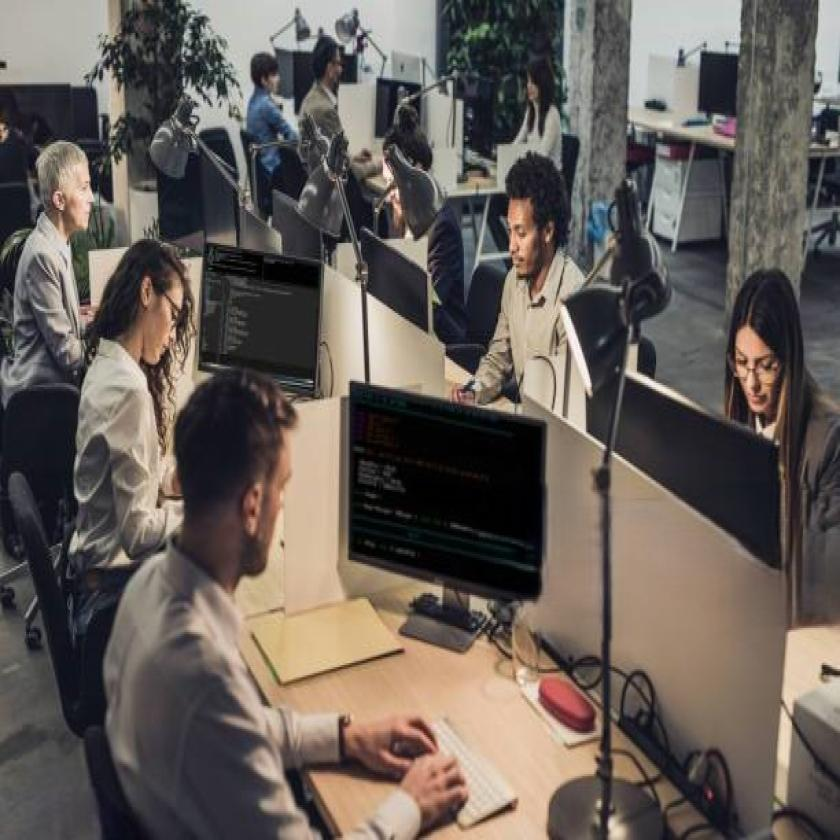Sin_casco: (174, 368, 305, 612), (110, 235, 197, 393), (725, 268, 806, 435), (501, 144, 574, 291), (31, 132, 99, 251), (308, 34, 349, 99), (247, 48, 286, 106), (522, 57, 556, 116)
